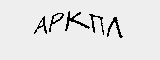А: (32, 12, 49, 39)
К: (64, 6, 88, 34)
Л: (105, 13, 125, 42)
П: (89, 10, 106, 38)
Р: (47, 11, 65, 36)
